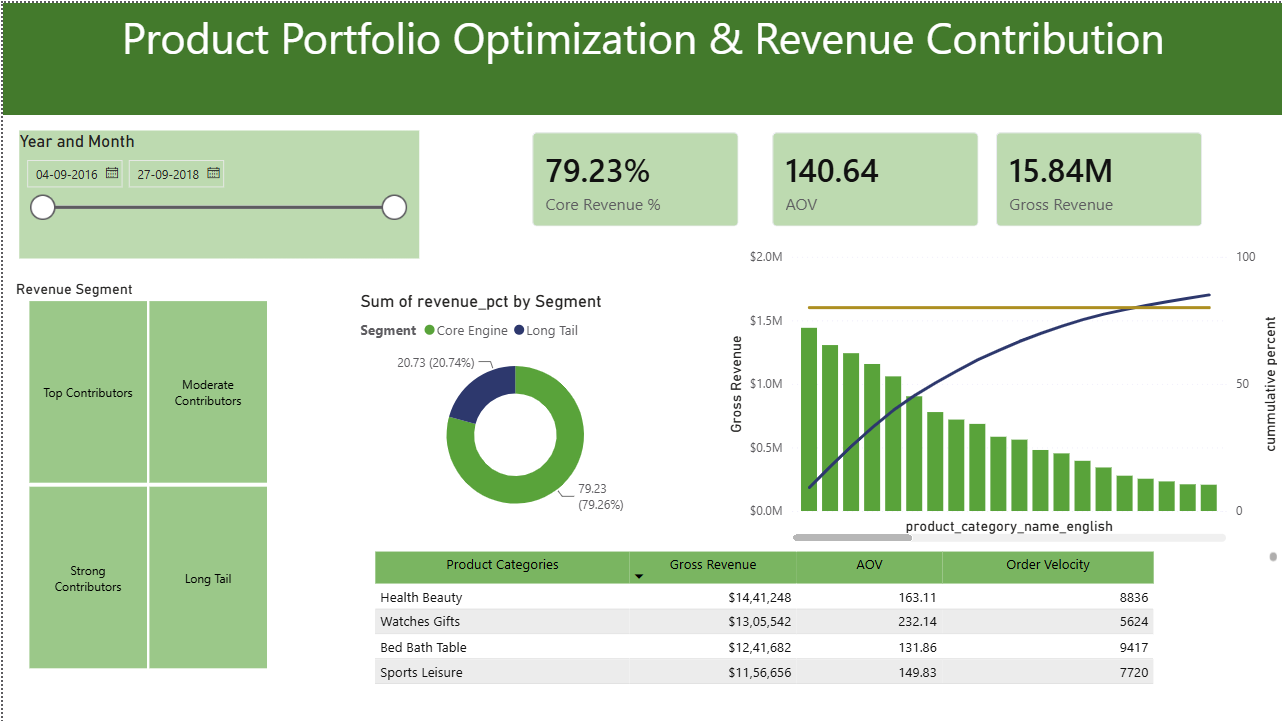

Layout of this report page (visuals, bound fields, positions):
{"tool":"powerbi","page":{"name":"Pareto","canvas":[1280,720],"ordinal":2},"visuals":[{"type":"cardVisual","title":"Gross revenue","fields":{"Data":["order_items_clean.Gross_revenue"]},"box":[1012.2,112.2,240.1,127.9],"z":0},{"type":"cardVisual","title":"Average of Value","fields":{"Data":["order_items_clean.AOV"]},"box":[744.7,112.5,239.7,127.2],"z":1000},{"type":"actionButton","box":[0,0,100,40],"z":2000},{"type":"slicer","title":"Year and Month","fields":{"Values":["orders_cleaned.pur_date (bins)"]},"box":[24.5,128.4,399.9,127.2],"z":3000},{"type":"donutChart","fields":{"Category":["pareto_dashboard.Segment"],"Y":["Sum(pareto_dashboard.revenue_pct)"]},"box":[424.3,288.6,320.4,239.7],"z":4000},{"type":"lineClusteredColumnComboChart","fields":{"Category":["pareto_dashboard.product_category_name_english"],"Y":["Sum(pareto_dashboard.gross_revenue)"],"Y2":["Sum(pareto_dashboard.cumulative_pct)","pareto_dashboard.Pareto Threshold"]},"box":[760.6,271.5,519.7,273.9],"z":5000},{"type":"slicer","fields":{"Values":["pareto_dashboard.Revenue Segment"]},"box":[0,272,288,400],"z":6000},{"type":"pivotTable","fields":{"Rows":["pareto_dashboard.product_category_name_english"],"Values":["Sum(pareto_dashboard.gross_revenue)","select","Sum(pareto_dashboard.AOV)","Sum(pareto_dashboard.order_velocity)"]},"box":[368,544,912,144],"z":7000},{"type":"cardVisual","title":"Core revenue %","fields":{"Data":["pareto_dashboard.Core Revenue %"]},"box":[464.5,112.2,240.1,127.9],"z":8000},{"type":"textbox","title":"Product Portfolio Optimization & Revenue Contribution","box":[0,0,696.1,54.3],"z":9000}]}

Visuals, with their boxes in screenshot pixels (x1, y1, x2, y2), scaled from the page's 1280x720 canvas onto the 1282x721 screenshot:
"Gross revenue" cardVisual: [1014, 112, 1254, 240]
"Average of Value" cardVisual: [746, 113, 986, 240]
actionButton: [0, 0, 100, 40]
"Year and Month" slicer: [25, 129, 425, 256]
donutChart - pareto_dashboard.Segment x Sum(pareto_dashboard.revenue_pct): [425, 289, 746, 529]
lineClusteredColumnComboChart - pareto_dashboard.product_category_name_english x Sum(pareto_dashboard.gross_revenue): [762, 272, 1281, 546]
slicer - pareto_dashboard.Revenue Segment: [0, 272, 288, 673]
pivotTable - pareto_dashboard.product_category_name_english x Sum(pareto_dashboard.gross_revenue): [369, 545, 1281, 689]
"Core revenue %" cardVisual: [465, 112, 706, 240]
"Product Portfolio Optimization & Revenue Contribution" textbox: [0, 0, 697, 54]
